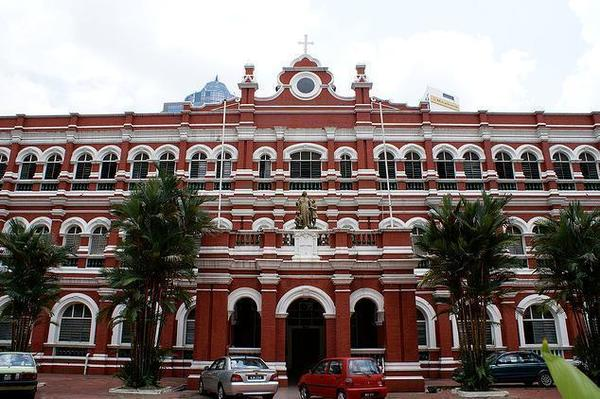Church: (1, 31, 592, 356)
